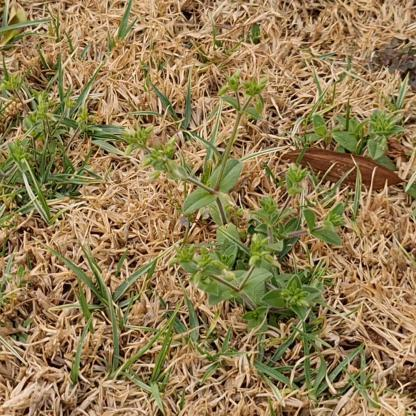Weeds: (126, 69, 346, 333), (3, 71, 90, 196), (305, 109, 412, 167)
